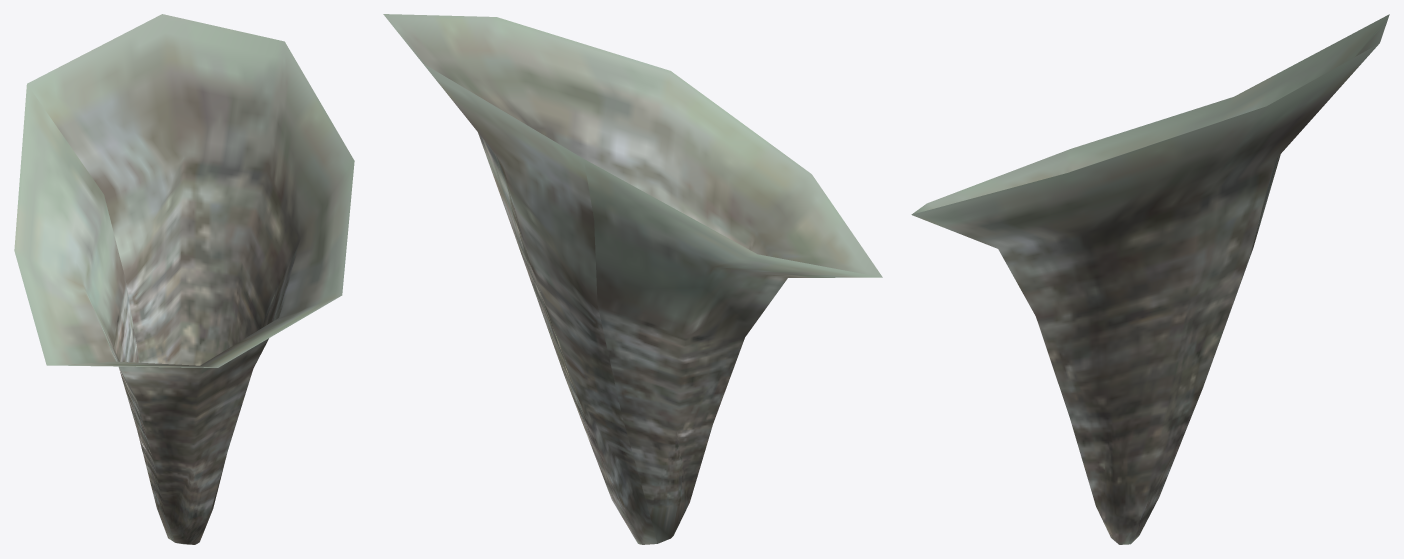
Rendered from TROLLHOLE02_PS-SECRETSTALAG50.fbx.
The picture shows the model from 3 angles, left to right: view 1: azimuth 30°, elevation 25°; view 2: azimuth 150°, elevation 25°; view 3: azimuth 270°, elevation 25°; orthographic projection. The views are drawn at different scales.
Visible parts, largest first — view 1: TROLLHOLE02_PS-SECRETSTALAG50; view 2: TROLLHOLE02_PS-SECRETSTALAG50; view 3: TROLLHOLE02_PS-SECRETSTALAG50.
Part boxes in pixels (box(x1,y1,x2,y2)): TROLLHOLE02_PS-SECRETSTALAG50: box(14, 14, 354, 544); TROLLHOLE02_PS-SECRETSTALAG50: box(383, 14, 882, 544); TROLLHOLE02_PS-SECRETSTALAG50: box(911, 14, 1389, 544).
Bounding box in the file's own units: 22103 × 29091 × 23206.
Materials: 1 (1 with a texture image).
